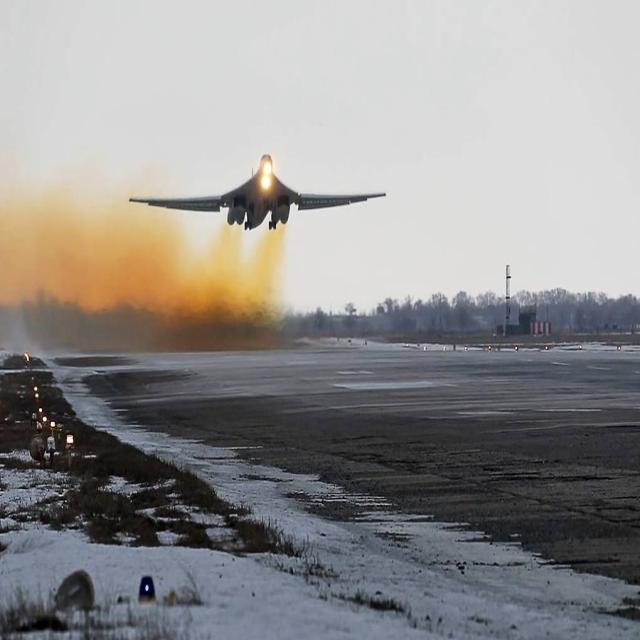MIL_Plane: (128, 154, 386, 231)
